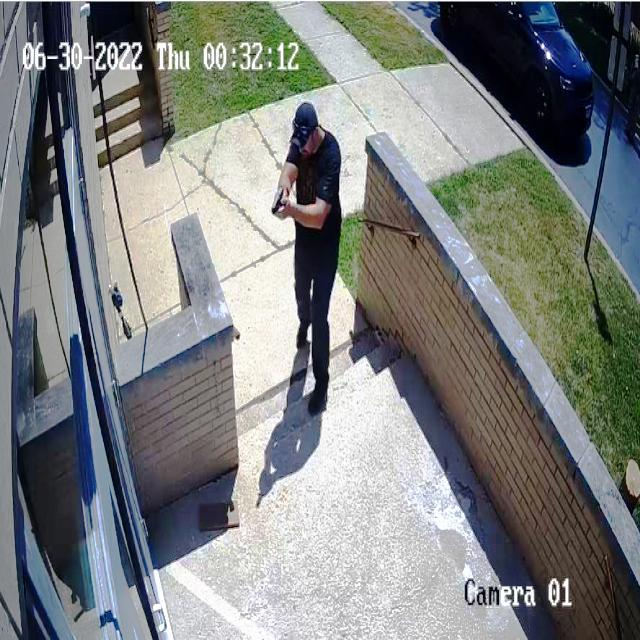Gun: (263, 185, 302, 218)
